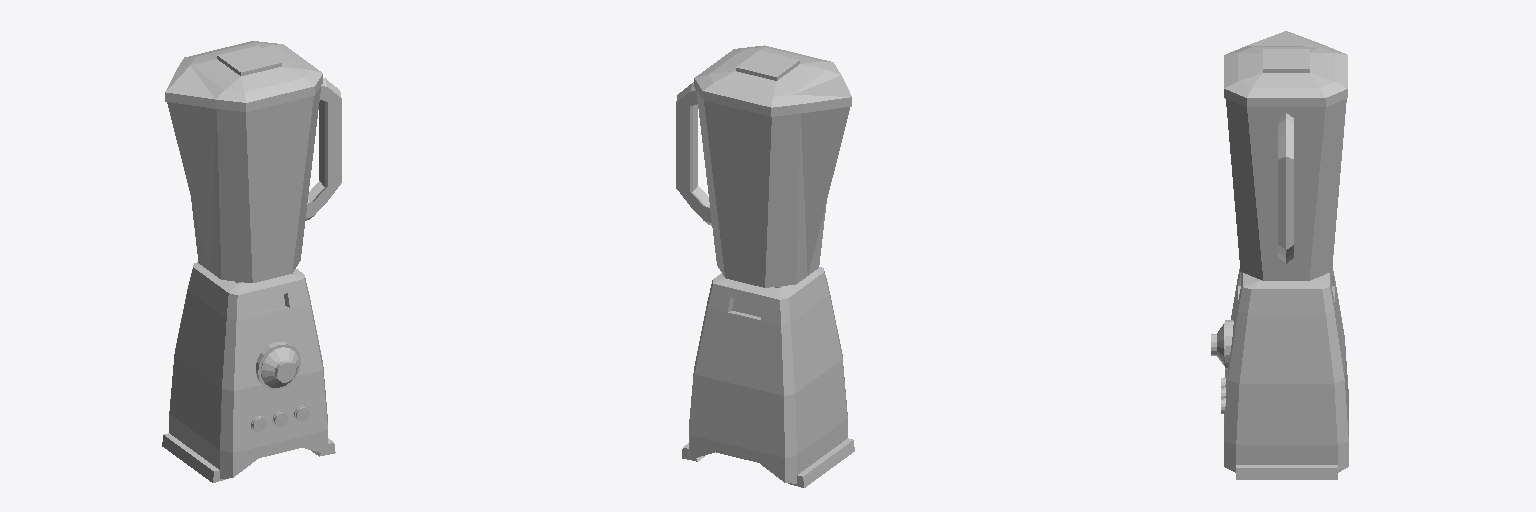
Rendered from Blender 2.obj.
3 views of the same model, side by side, from view 1: azimuth 30°, elevation 25°; view 2: azimuth 150°, elevation 25°; view 3: azimuth 270°, elevation 25° (orthographic).
Visible parts, largest first — view 1: Blender, Bowl, Blender_Cap; view 2: Blender, Bowl, Blender_Cap; view 3: Blender, Bowl, Blender_Cap.
Boxes of the visible parts, box(x1,y1,x2,y2) form: Blender: box(162, 262, 335, 482); Bowl: box(167, 78, 341, 282); Blender_Cap: box(165, 41, 322, 111); Blender: box(682, 267, 854, 487); Bowl: box(676, 82, 849, 287); Blender_Cap: box(694, 45, 851, 116); Blender: box(1211, 267, 1348, 479); Bowl: box(1226, 99, 1346, 280); Blender_Cap: box(1224, 31, 1347, 106).
Size of the model in its own units: 161 by 344 by 110.